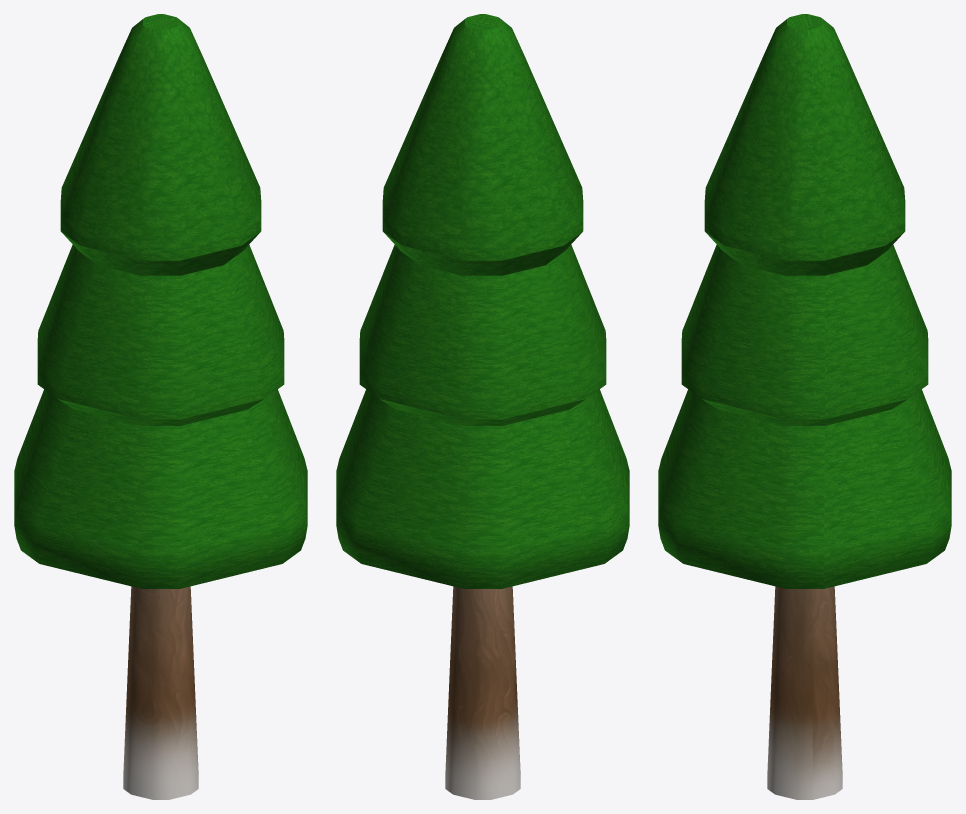
The model's file is Tree01_L.FBX.
The picture shows the model from 3 angles, left to right: view 1: azimuth 30°, elevation 25°; view 2: azimuth 150°, elevation 25°; view 3: azimuth 270°, elevation 25°; orthographic projection.
Visible parts, largest first — view 1: Cylinder004; view 2: Cylinder004; view 3: Cylinder004.
Boxes of the visible parts, x1,y1,x2,y2 form: Cylinder004: [14, 14, 307, 799]; Cylinder004: [336, 14, 629, 799]; Cylinder004: [658, 14, 951, 799].
Size of the model in its own units: 113 by 299 by 104.
